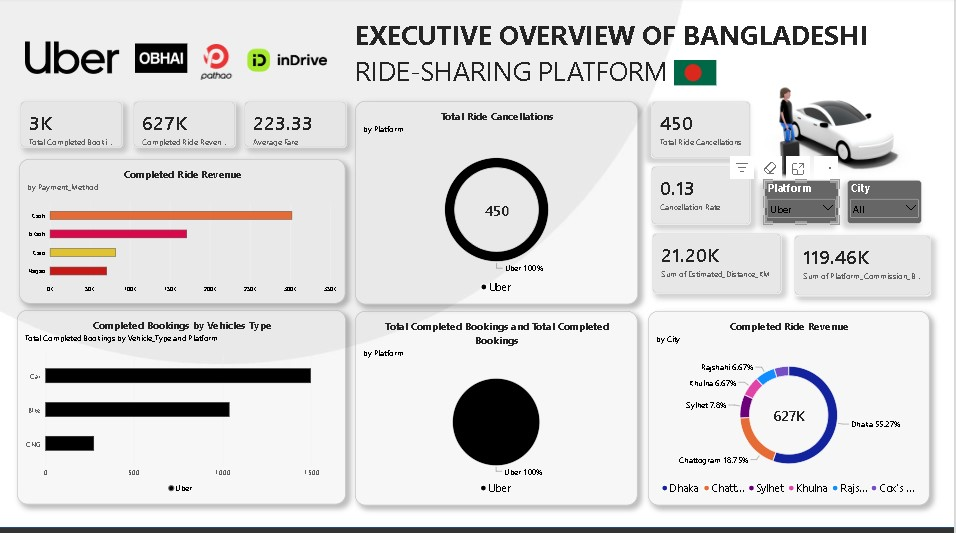

Layout of this report page (visuals, bound fields, positions):
{"tool":"powerbi","page":{"name":"Page 1","canvas":[1920,1080],"ordinal":0},"visuals":[{"type":"pieChart","fields":{"Category":["Rides.Platform","Calendar.Month_Name"],"Y":["KPI_Guide.Completed Bookings","KPI_Guide.Completed Bookings"]},"box":[717.5,630,566.7,390],"z":0},{"type":"donutChart","fields":{"Category":["City_Dim.City"],"Y":["KPI_Guide.Completed Ride Revenue"]},"box":[1305,630,565,390],"z":1000},{"type":"shape","box":[0,1063.3,1920,18],"z":2000},{"type":"clusteredBarChart","title":"Completed Bookings by Vehicles Type","fields":{"Category":["Rides.Vehicle_Type"],"Series":["Rides.Platform"],"Y":["KPI_Guide.Completed Bookings"]},"box":[37.5,627.5,660,390],"z":3000},{"type":"image","box":[1520,104,335,307.5],"z":4000},{"type":"image","box":[55,83.1,188.5,78.8],"z":5000},{"type":"cardVisual","fields":{"Data":["KPI_Guide.Completed Bookings"]},"box":[43.3,208.3,206.1,94.5],"z":6000,"group":"g1"},{"type":"barChart","fields":{"Category":["Rides.Payment_Method"],"Y":["KPI_Guide.Completed Ride Revenue"]},"box":[42.5,325,655,290],"z":6000},{"type":"image","box":[327.5,90,222.5,80],"z":7000},{"type":"cardVisual","fields":{"Data":["KPI_Guide.Completed Ride Revenue"]},"box":[269.8,208.3,206.1,94.5],"z":7000,"group":"g1"},{"type":"cardVisual","fields":{"Data":["KPI_Guide.Total Ride Cancellations"]},"box":[1311.7,208.3,200,115],"z":8000},{"type":"image","box":[455,70,250,112.5],"z":9000},{"type":"cardVisual","fields":{"Data":["KPI_Guide.Average Fare"]},"box":[492.2,208.8,206.1,94.5],"z":9000,"group":"g1"},{"type":"cardVisual","fields":{"Data":["Calendar.Cancellation Rate"]},"box":[1311.7,338.3,200,118.3],"z":10000},{"type":"cardVisual","fields":{"Data":["Sum(Rides.Estimated_Distance_KM)"]},"box":[1312,474,260,122],"z":11000},{"type":"image","box":[275,90,105,65],"z":12000},{"type":"cardVisual","fields":{"Data":["Sum(Rides.Platform_Commission_BDT)"]},"box":[1597,477.1,275,122.9],"z":13000},{"type":"donutChart","fields":{"Category":["Rides.Platform"],"Y":["KPI_Guide.Total Ride Cancellations"]},"box":[716.7,208.3,568.3,408.3],"z":14000},{"type":"textbox","box":[716.7,40,1156.7,146.7],"z":15000},{"type":"group","id":"g1","title":"Group 2","box":[43.3,208.3,655,95],"z":16000},{"type":"image","box":[1356.4,117.7,84.6,66.1],"z":17000},{"type":"slicer","fields":{"Values":["Rides.Platform"]},"box":[1537.5,367.5,150,87.5],"z":18000},{"type":"slicer","fields":{"Values":["City_Dim.City"]},"box":[1705,367.5,150,87.5],"z":19000}]}

Visuals, with their boxes in screenshot pixels (x1, y1, x2, y2), scaled from the page's 1920x1080 canvas onto the 956x533 screenshot:
pieChart - Rides.Platform x Calendar.Month_Name: 357/311/639/503
donutChart - City_Dim.City x KPI_Guide.Completed Ride Revenue: 650/311/931/503
shape: 0/525/955/532
"Completed Bookings by Vehicles Type" clusteredBarChart: 19/310/347/502
image: 757/51/924/203
image: 27/41/121/80
cardVisual - KPI_Guide.Completed Bookings: 22/103/124/149
barChart - Rides.Payment_Method x KPI_Guide.Completed Ride Revenue: 21/160/347/304
image: 163/44/274/84
cardVisual - KPI_Guide.Completed Ride Revenue: 134/103/237/149
cardVisual - KPI_Guide.Total Ride Cancellations: 653/103/753/160
image: 227/35/351/90
cardVisual - KPI_Guide.Average Fare: 245/103/348/150
cardVisual - Calendar.Cancellation Rate: 653/167/753/225
cardVisual - Sum(Rides.Estimated_Distance_KM): 653/234/783/294
image: 137/44/189/76
cardVisual - Sum(Rides.Platform_Commission_BDT): 795/235/932/296
donutChart - Rides.Platform x KPI_Guide.Total Ride Cancellations: 357/103/640/304
textbox: 357/20/933/92
"Group 2" group: 22/103/348/150
image: 675/58/717/91
slicer - Rides.Platform: 766/181/840/225
slicer - City_Dim.City: 849/181/924/225
